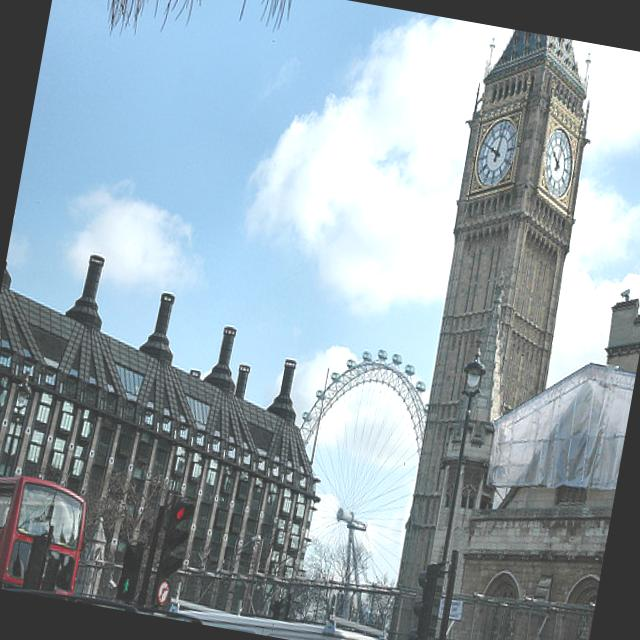Vehicle: (0, 466, 90, 597)
